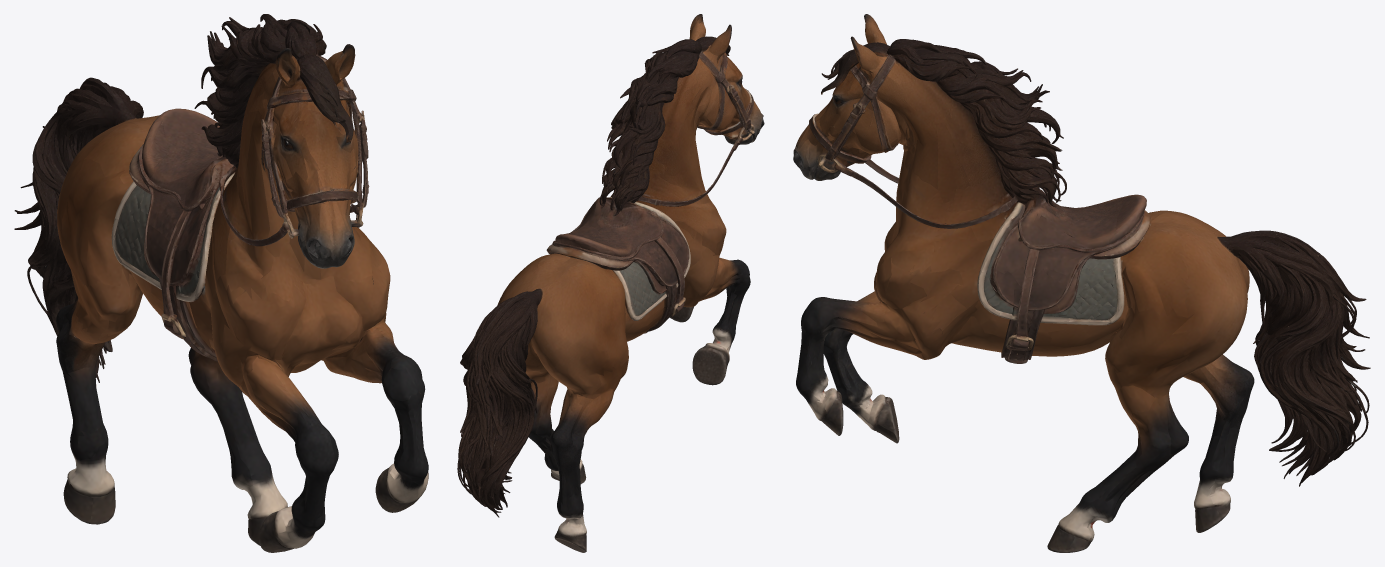
File: brown-horse.glb
3 renders of one model, left to right at view 1: azimuth 30°, elevation 25°; view 2: azimuth 150°, elevation 25°; view 3: azimuth 270°, elevation 25°, orthographic. The views are drawn at different scales.
Bounding box in the file's own units: 0.5274 × 1.85 × 1.9.
Materials: 1 (1 with a texture image).
